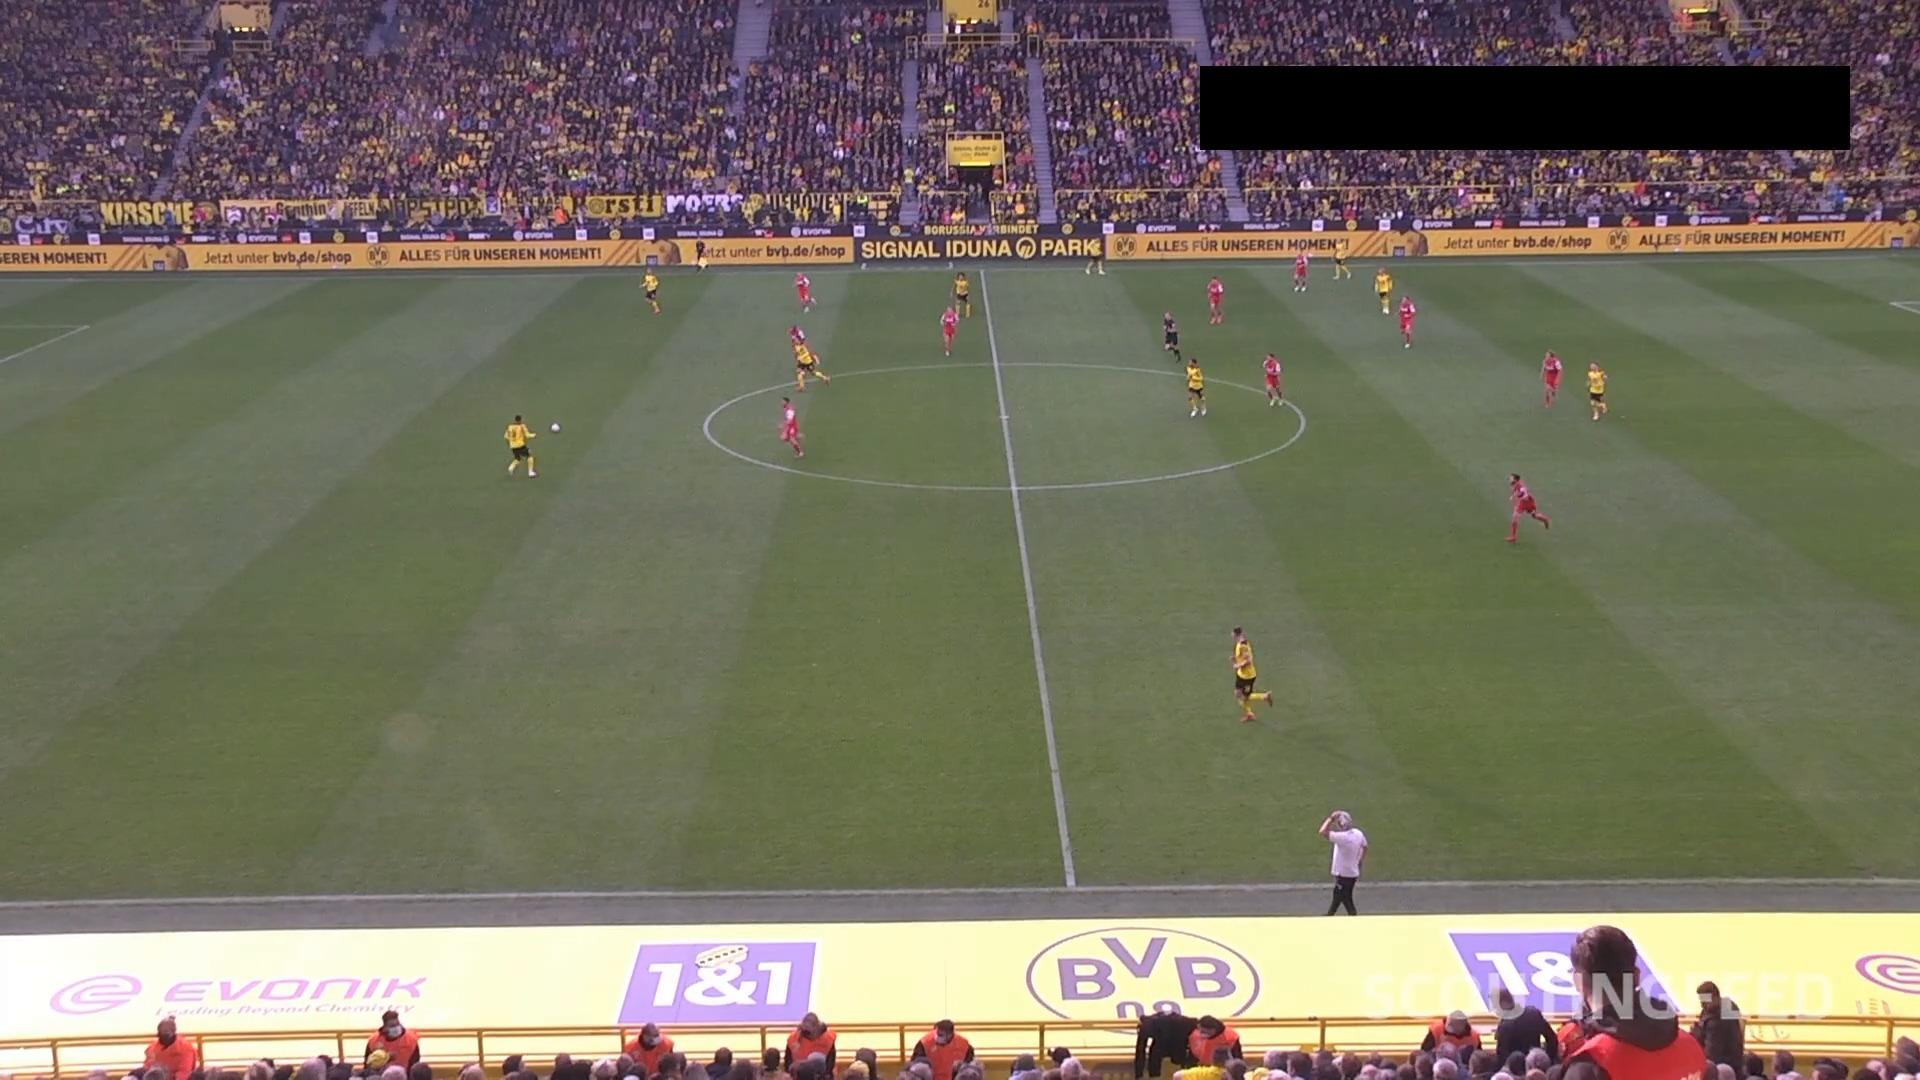ball: (550, 421, 562, 434)
